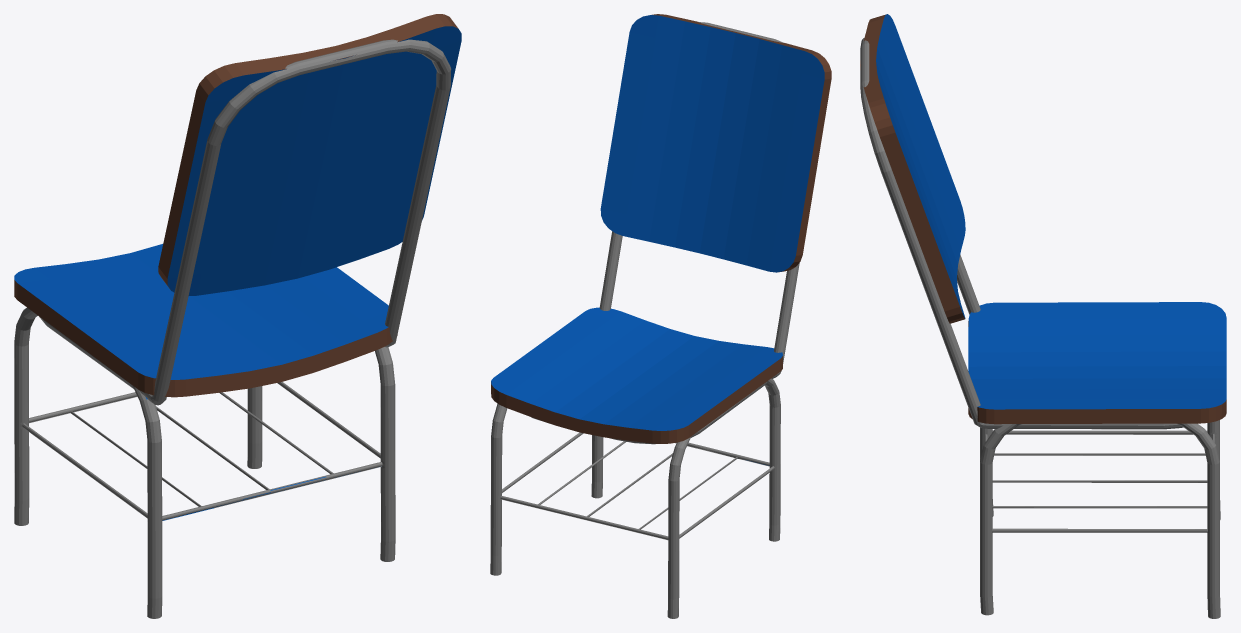
Rendered from SillaReal1.fbx.
3 renders of one model, left to right at view 1: azimuth 30°, elevation 25°; view 2: azimuth 150°, elevation 25°; view 3: azimuth 270°, elevation 25°, orthographic. The views are drawn at different scales.
Parts seen in each view (by area): view 1: Silla; view 2: Silla; view 3: Silla.
Boxes of the visible parts, bbox=[...] form: Silla: bbox=[14, 14, 461, 618]; Silla: bbox=[490, 14, 831, 618]; Silla: bbox=[860, 14, 1226, 618].
Size of the model in its own units: 200 by 445 by 290.
